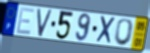5: (55, 10, 76, 41)
9: (75, 12, 93, 44)
E: (15, 7, 36, 37)
O: (113, 18, 135, 47)
V: (36, 8, 53, 38)
X: (95, 15, 117, 46)
